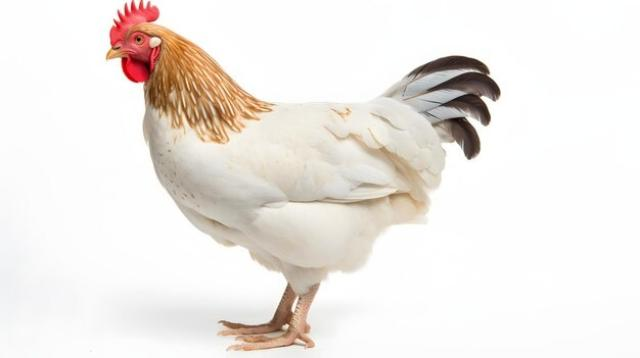Chicken: (104, 0, 502, 351)
